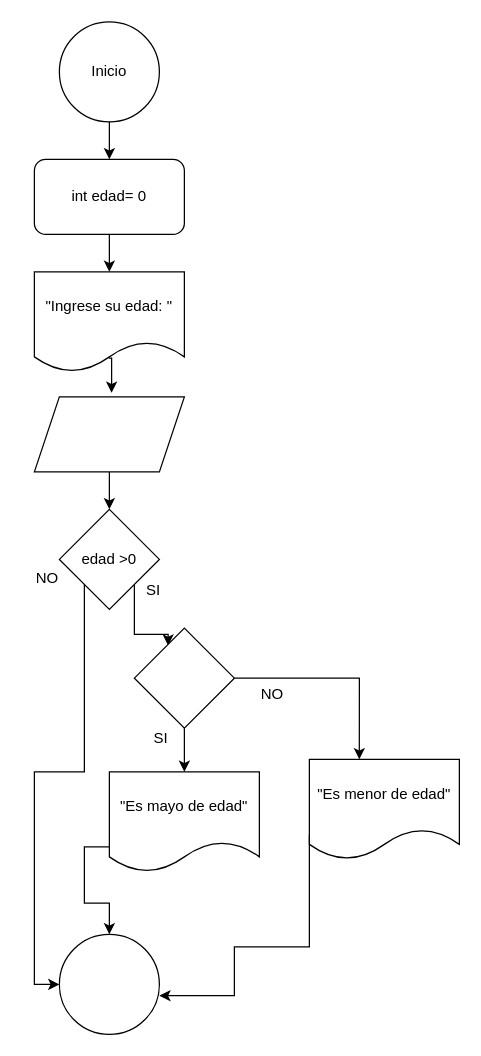
Image size: 481x1056. Some labels were removed from this diagram. The shapes that lost their labels are listed below. From the top down, each one's centre as x and y in pixels, then its label:
pixel 108 434: edad
pixel 183 677: edad >= 18
pixel 108 983: Fin
